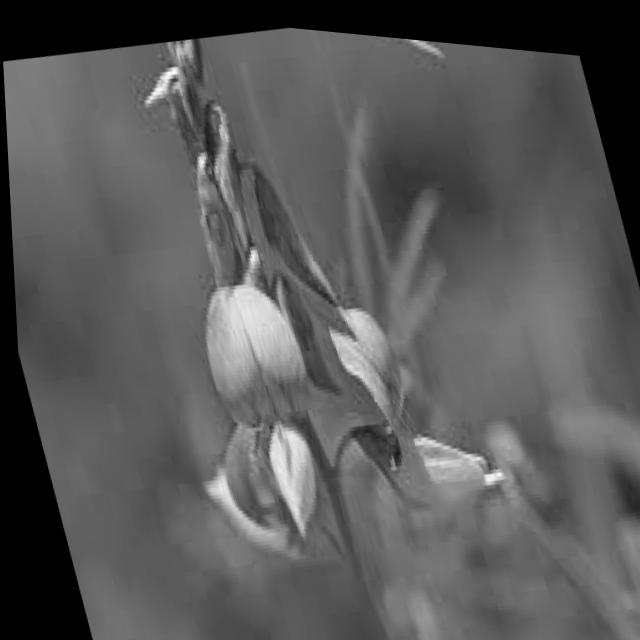Flower: (172, 260, 353, 541), (321, 273, 512, 534)
